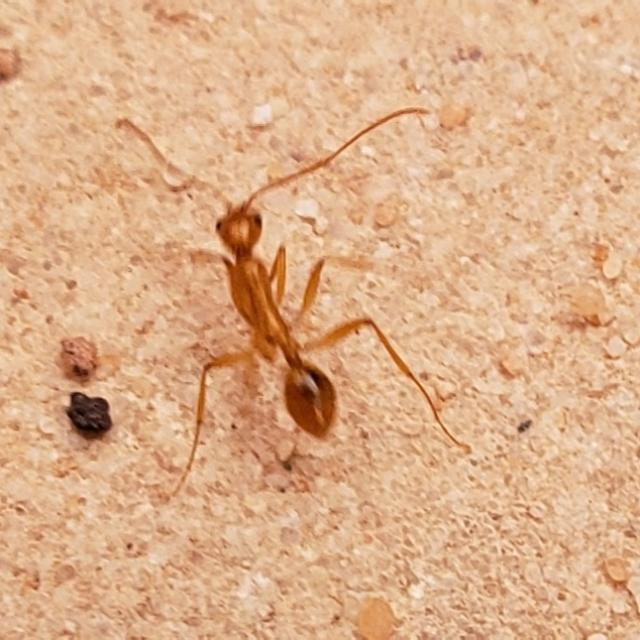Apheanogaster: (105, 94, 431, 456)
